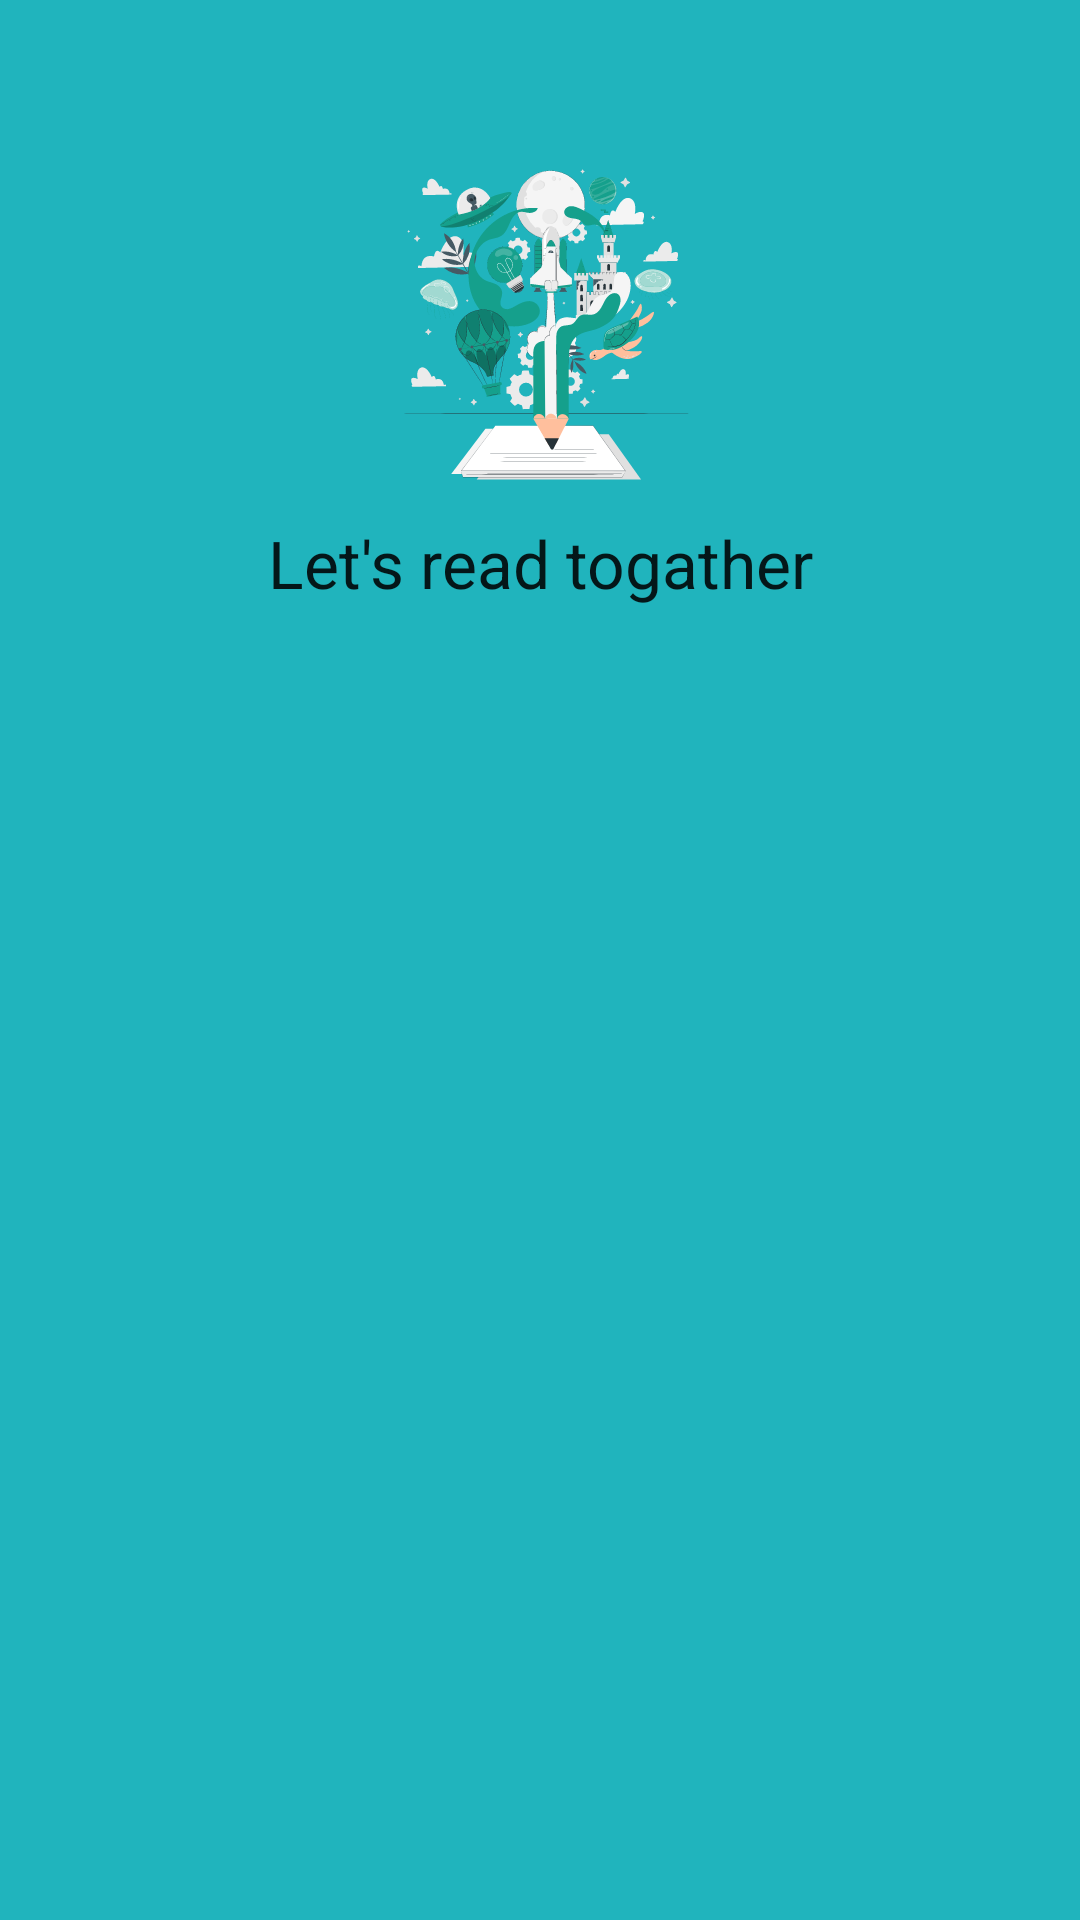

Locate icon controls on the screen. Image size 1080*1920, boxes as (x1, y1, x2, y2).
creative writing pana: (405, 169, 688, 480)
